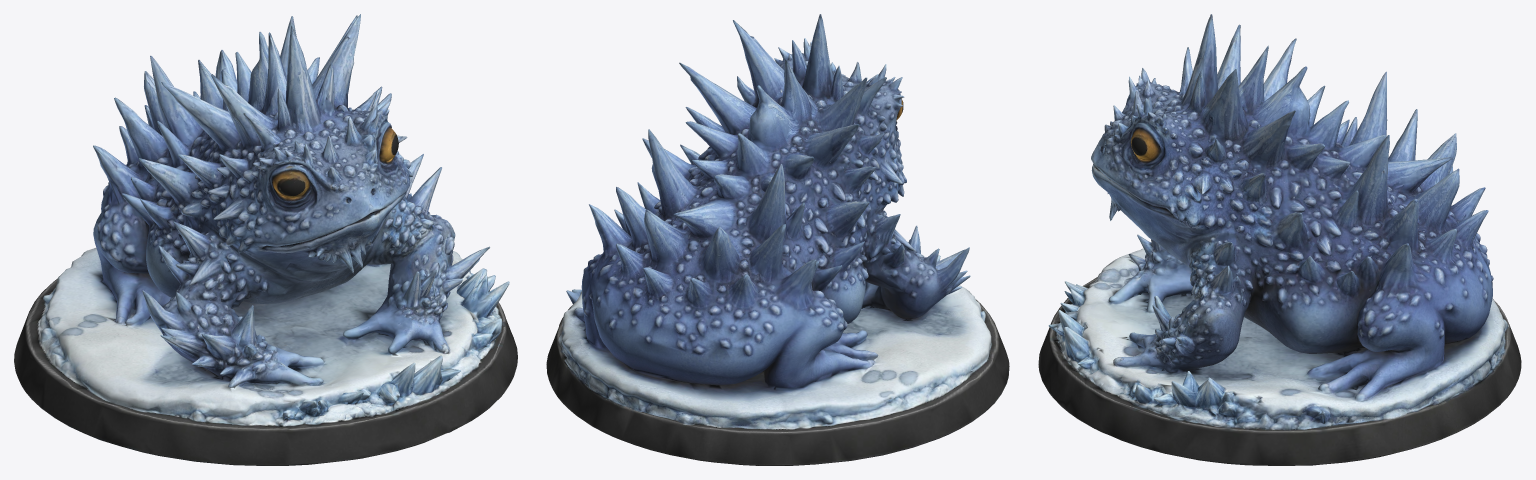
File: ice-toad.glb
3 views of the same model, side by side, from view 1: azimuth 30°, elevation 25°; view 2: azimuth 150°, elevation 25°; view 3: azimuth 270°, elevation 25° (orthographic). The views are drawn at different scales.
Parts seen in each view (by area): view 1: tripo_node_8b1c838e-0186-40f6-b461-266be31adbd7; view 2: tripo_node_8b1c838e-0186-40f6-b461-266be31adbd7; view 3: tripo_node_8b1c838e-0186-40f6-b461-266be31adbd7.
Boxes of the visible parts, x1,y1,x2,y2 form: tripo_node_8b1c838e-0186-40f6-b461-266be31adbd7: (14,14,517,465); tripo_node_8b1c838e-0186-40f6-b461-266be31adbd7: (546,14,1009,465); tripo_node_8b1c838e-0186-40f6-b461-266be31adbd7: (1038,14,1521,465).
Bounding box in the file's own units: 0.9791 × 0.7757 × 0.9799.
Materials: 1 (1 with a texture image).
